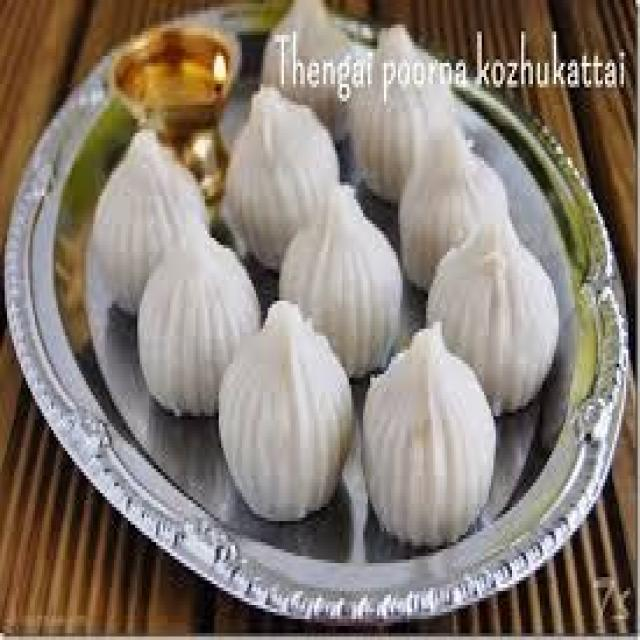poorna kolukattai: (100, 0, 559, 556)
